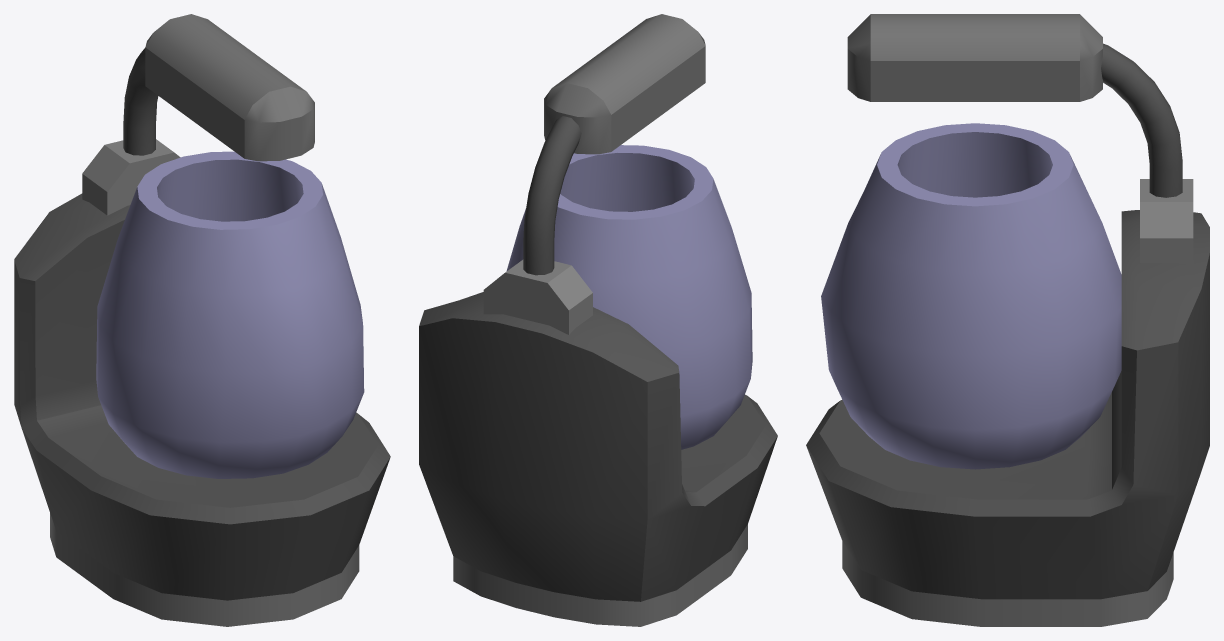
File: Vase.fbx
3 views of the same model, side by side, from view 1: azimuth 30°, elevation 25°; view 2: azimuth 150°, elevation 25°; view 3: azimuth 270°, elevation 25° (orthographic). The views are drawn at different scales.
Parts seen in each view (by area): view 1: Vase; view 2: Vase; view 3: Vase.
Boxes of the visible parts, x1=… form: Vase: x1=14, y1=14, x2=390, y2=626; Vase: x1=419, y1=14, x2=777, y2=626; Vase: x1=806, y1=14, x2=1209, y2=626.
Bounding box in the file's own units: 24.29 × 43.43 × 28.98.
